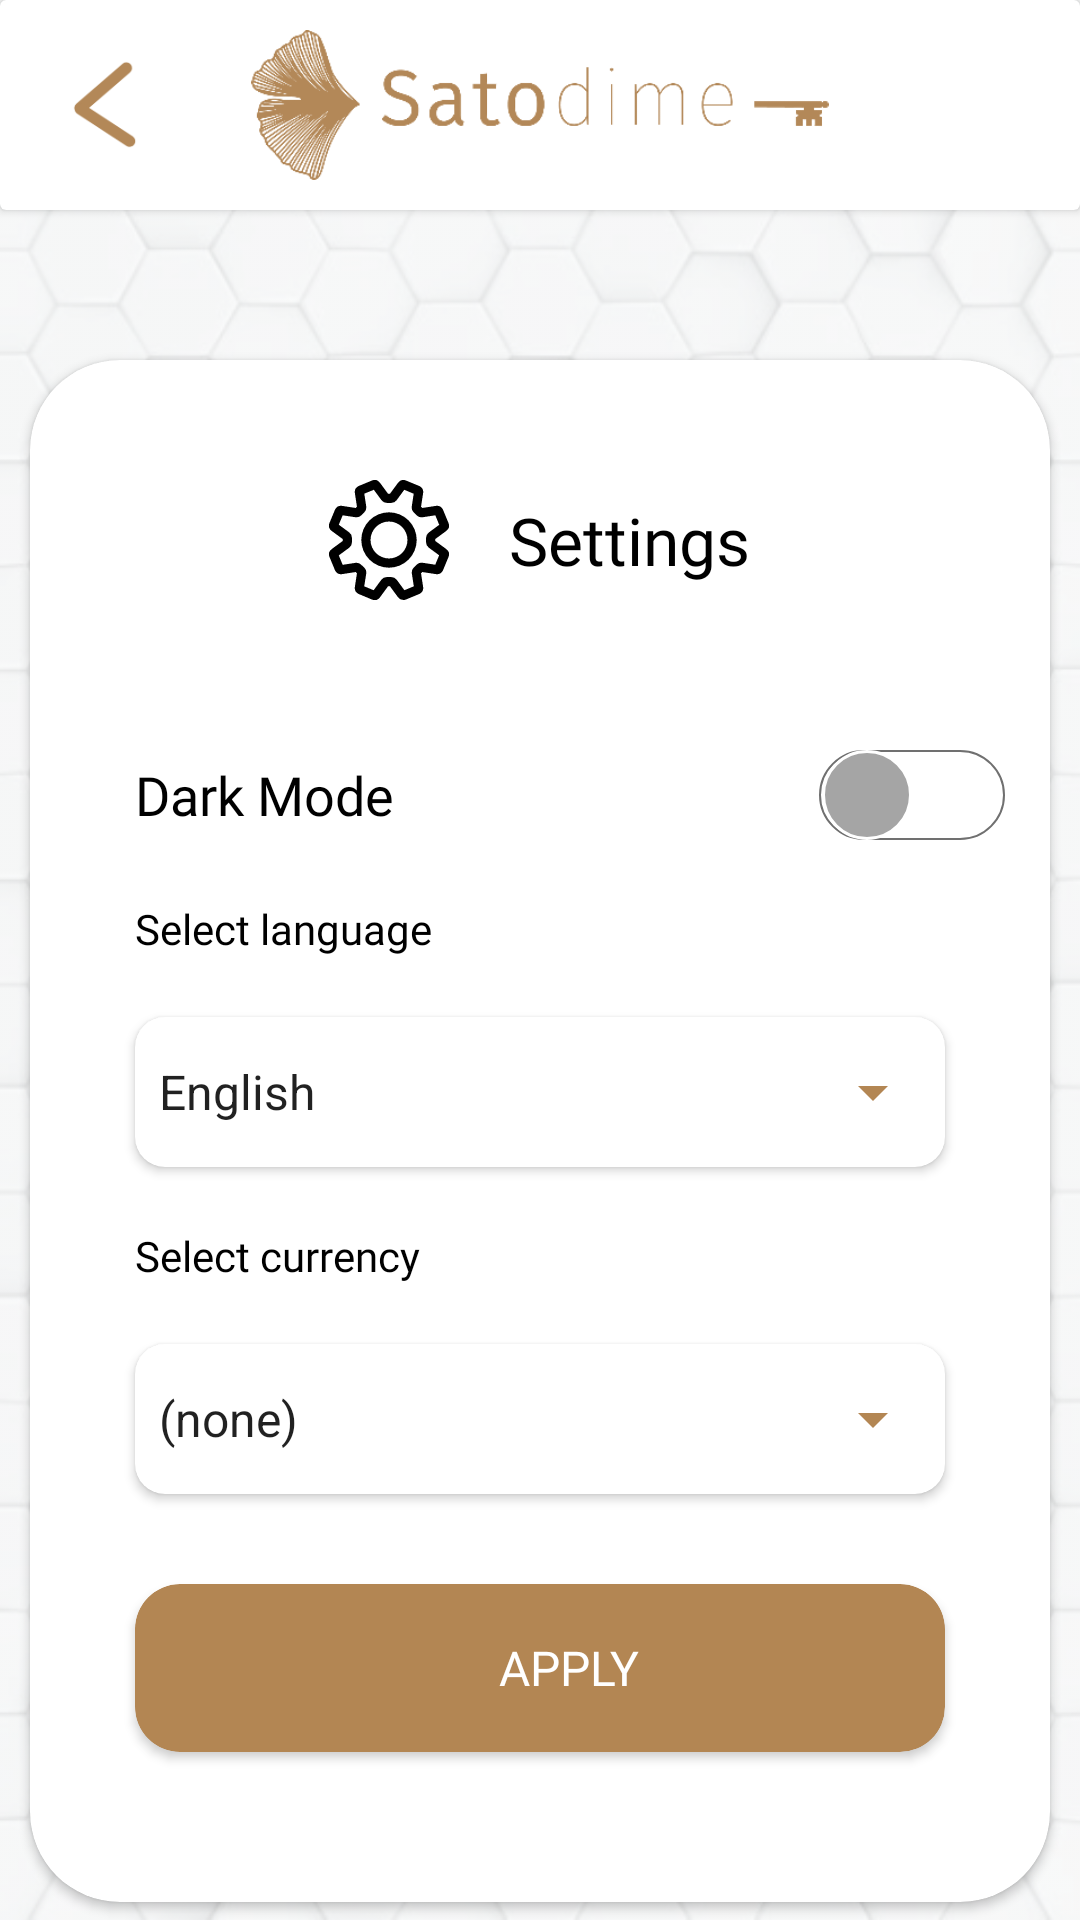

Locate icon controls on the screen. Image size 1080×1920, boxes as (x1, y1, x2, y2).
back: (74, 62, 136, 147)
